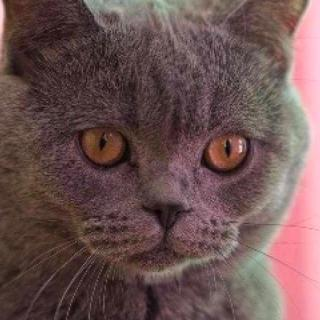cat: (7, 0, 314, 295)
nose: (132, 166, 202, 233)
